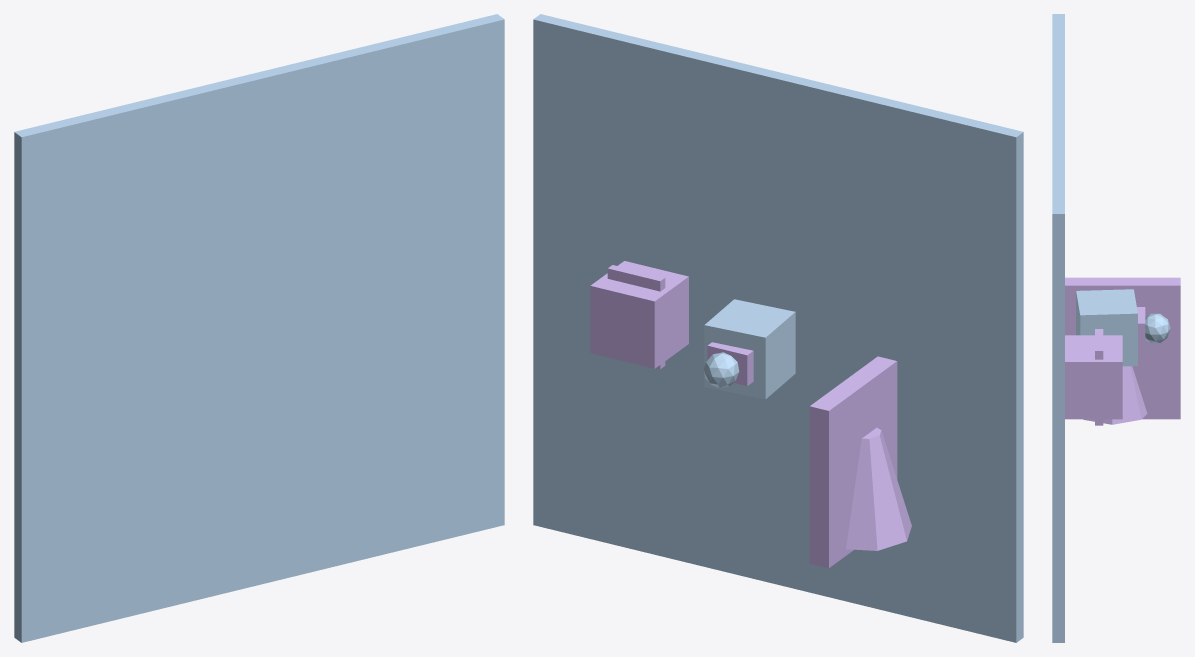
The model's file is kingdom-chess-kit.glb.
3 renders of one model, left to right at view 1: azimuth 30°, elevation 25°; view 2: azimuth 150°, elevation 25°; view 3: azimuth 270°, elevation 25°, orthographic. The views are drawn at different scales.
Visible parts, largest first — view 1: ENVIRONMENT_GROUND; view 2: ENVIRONMENT_GROUND, ENVIRONMENT_PANEL, OBSTACLE, PLAYER_BODY, PROFILE_ENVIRONMENT_DETAIL, PROFILE_PLAYER_HEAD, PROFILE_PLAYER_DETAIL, PROFILE_OBSTACLE_DETAIL; view 3: ENVIRONMENT_GROUND, ENVIRONMENT_PANEL, OBSTACLE, PLAYER_BODY, PROFILE_ENVIRONMENT_DETAIL, PROFILE_PLAYER_HEAD, PROFILE_PLAYER_DETAIL, PROFILE_OBSTACLE_DETAIL.
Part boxes in pixels (box(x1,y1,x2,y2)): ENVIRONMENT_GROUND: box(14, 14, 504, 642); ENVIRONMENT_GROUND: box(533, 14, 1023, 642); ENVIRONMENT_PANEL: box(809, 356, 897, 568); OBSTACLE: box(590, 261, 688, 368); PLAYER_BODY: box(704, 299, 795, 399); PROFILE_ENVIRONMENT_DETAIL: box(846, 427, 911, 550); PROFILE_PLAYER_HEAD: box(703, 352, 739, 388); PROFILE_PLAYER_DETAIL: box(707, 342, 753, 385); PROFILE_OBSTACLE_DETAIL: box(607, 265, 665, 369); ENVIRONMENT_GROUND: box(1052, 14, 1064, 642); ENVIRONMENT_PANEL: box(1065, 277, 1180, 419); OBSTACLE: box(1065, 335, 1122, 419); PLAYER_BODY: box(1076, 289, 1137, 366); PROFILE_ENVIRONMENT_DETAIL: box(1083, 366, 1147, 424); PROFILE_PLAYER_HEAD: box(1145, 313, 1170, 343); PROFILE_PLAYER_DETAIL: box(1137, 307, 1145, 349); PROFILE_OBSTACLE_DETAIL: box(1095, 329, 1103, 425).
Bounding box in the file's own units: 9 × 9 × 2.44.
